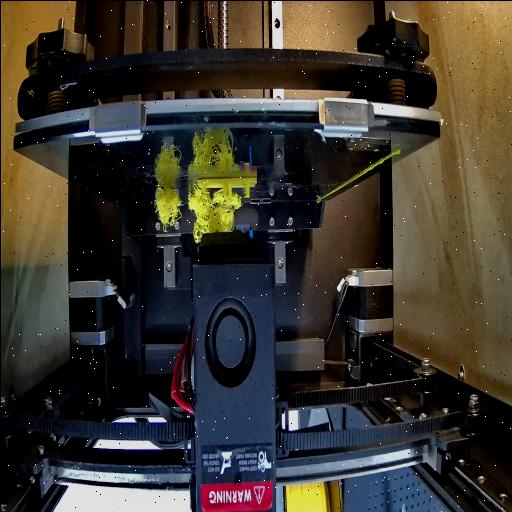spaghetti: (188, 191, 237, 239), (154, 188, 182, 228)
